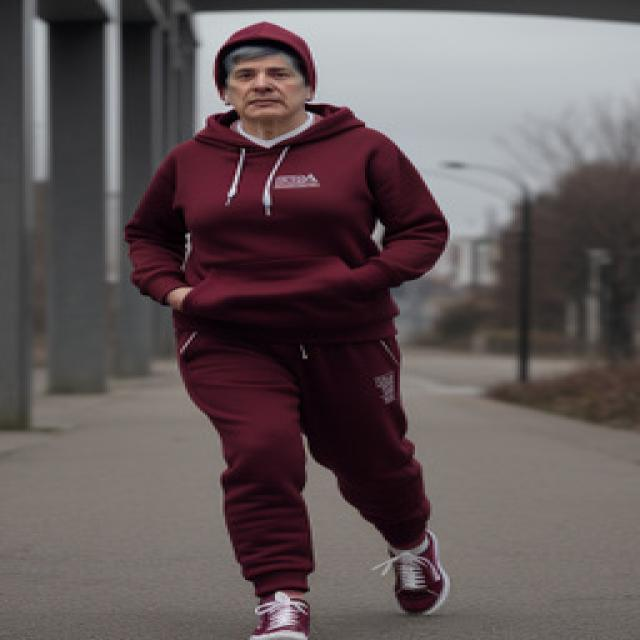Ai human 2: (114, 14, 507, 640)
